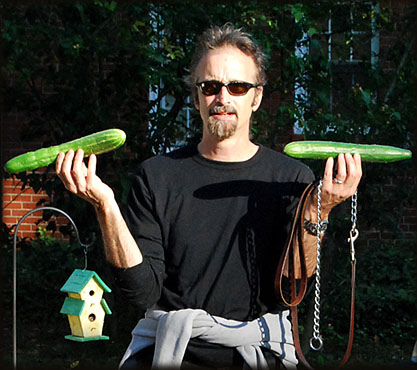cucumber: (3, 128, 126, 173), (279, 136, 414, 166)
